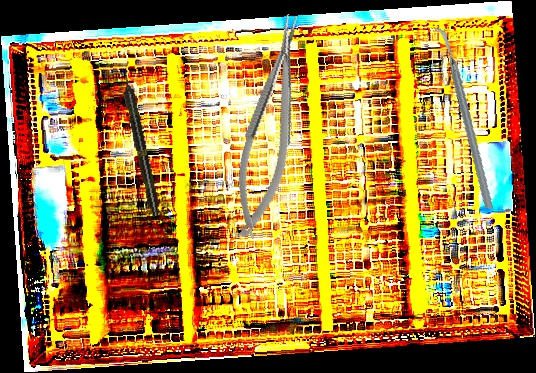Chopper: (406, 27, 520, 209)
Handpiece: (118, 69, 163, 218)
Needle Holder: (221, 10, 322, 243)
